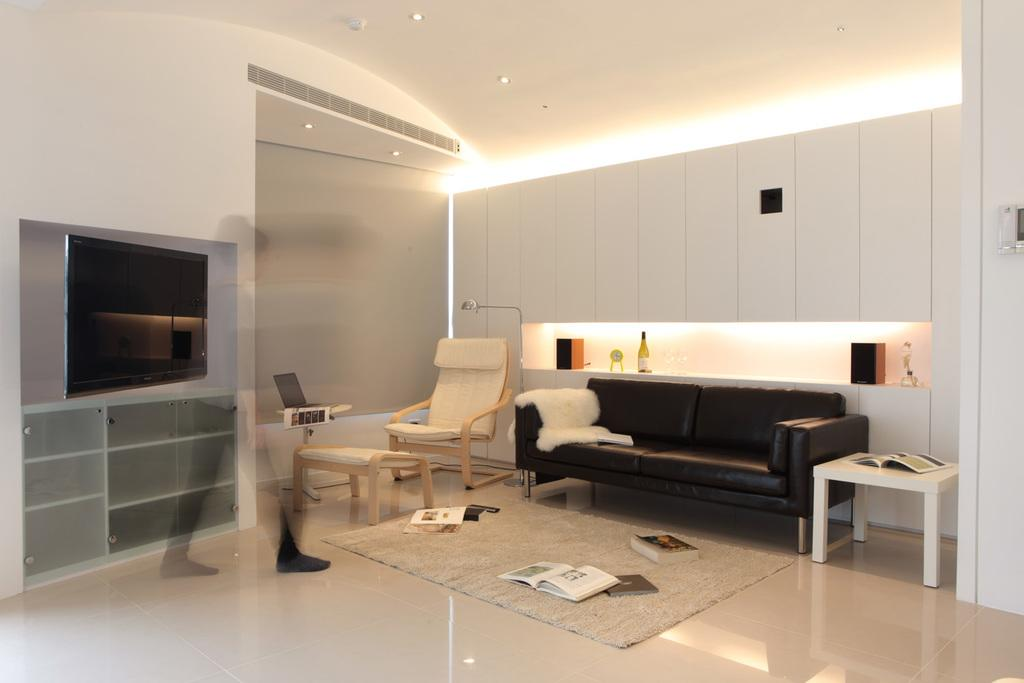Chair: (375, 343, 508, 531)
